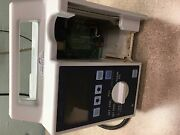plumxl1: (8, 1, 142, 131)
